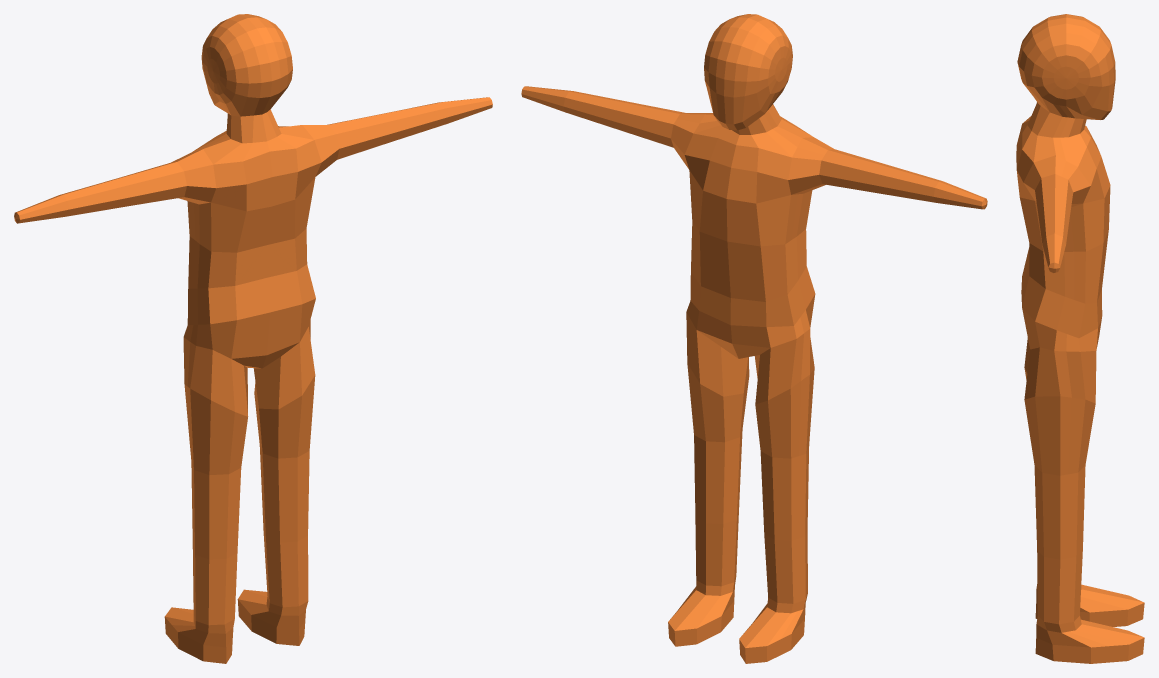
Rendered from Low_Poly_Character_No_Hands_Not_Rigged.glb.
The picture shows the model from 3 angles, left to right: view 1: azimuth 30°, elevation 25°; view 2: azimuth 150°, elevation 25°; view 3: azimuth 270°, elevation 25°; orthographic projection. The views are drawn at different scales.
Visible parts, largest first — view 1: unnamed; view 2: unnamed; view 3: unnamed.
Boxes of the visible parts, x1,y1,x2,y2 form: unnamed: [14, 14, 492, 663]; unnamed: [521, 14, 987, 663]; unnamed: [1016, 14, 1144, 663].
Bounding box in the file's own units: 3.78 × 4.74 × 0.8911.
